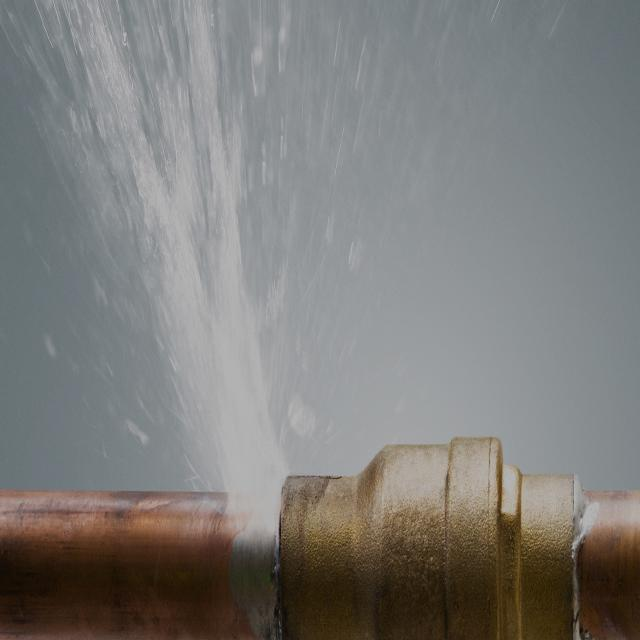leak: (78, 2, 345, 491)
